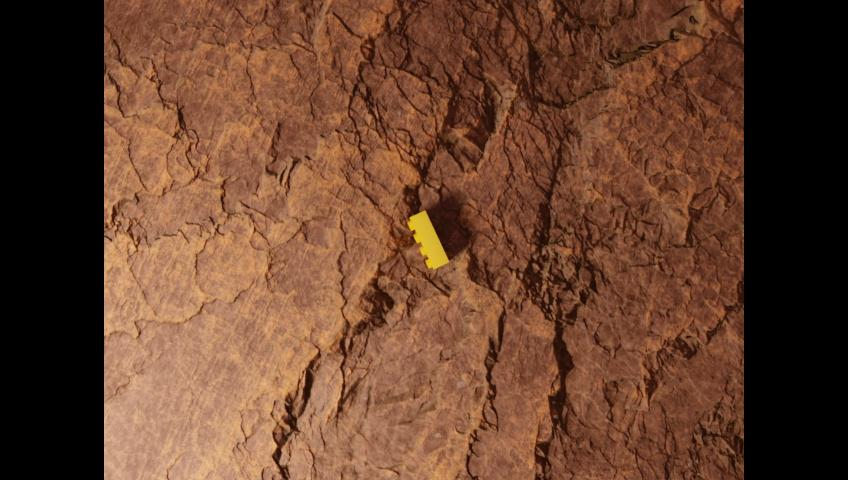4x2_yellow: (407, 210, 448, 268)
